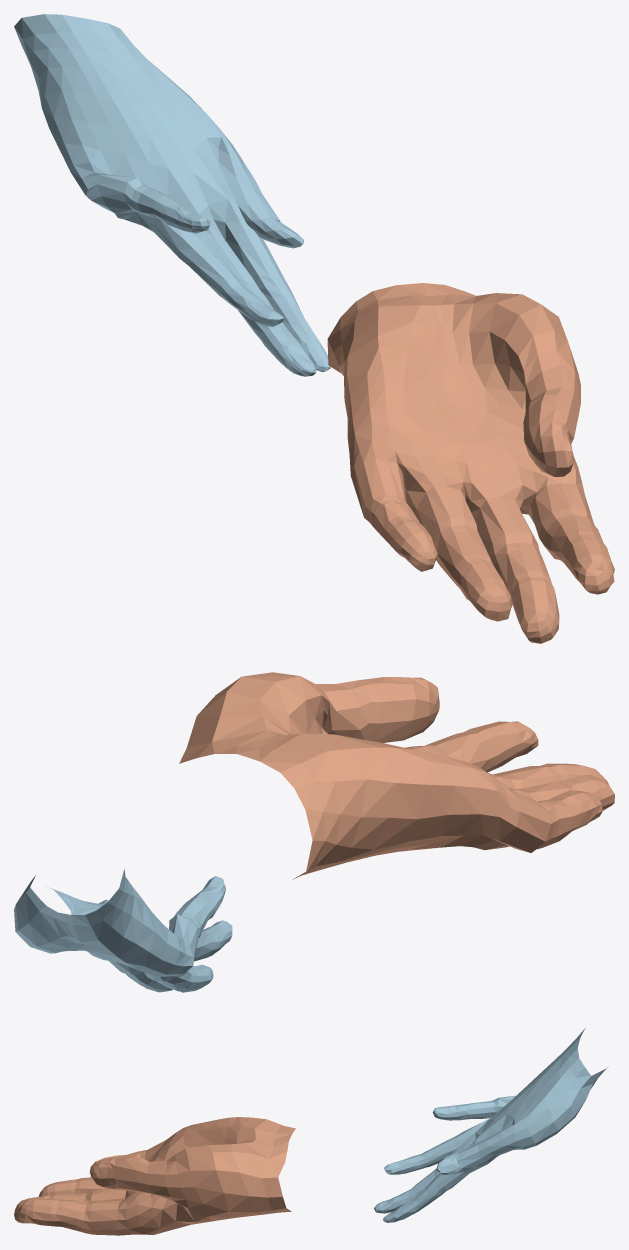
File: frame_017.glb
The picture shows the model from 3 angles, top to bottom: view 1: azimuth 30°, elevation 25°; view 2: azimuth 150°, elevation 25°; view 3: azimuth 270°, elevation 25°; orthographic projection. The views are drawn at different scales.
Parts seen in each view (by area): view 1: world; view 2: world; view 3: world.
Boxes of the visible parts, x1,y1,x2,y2 form: world: [14, 14, 614, 643]; world: [14, 672, 614, 992]; world: [14, 1028, 608, 1235].
Size of the model in its own units: 0.1044 by 0.1188 by 0.3453.
